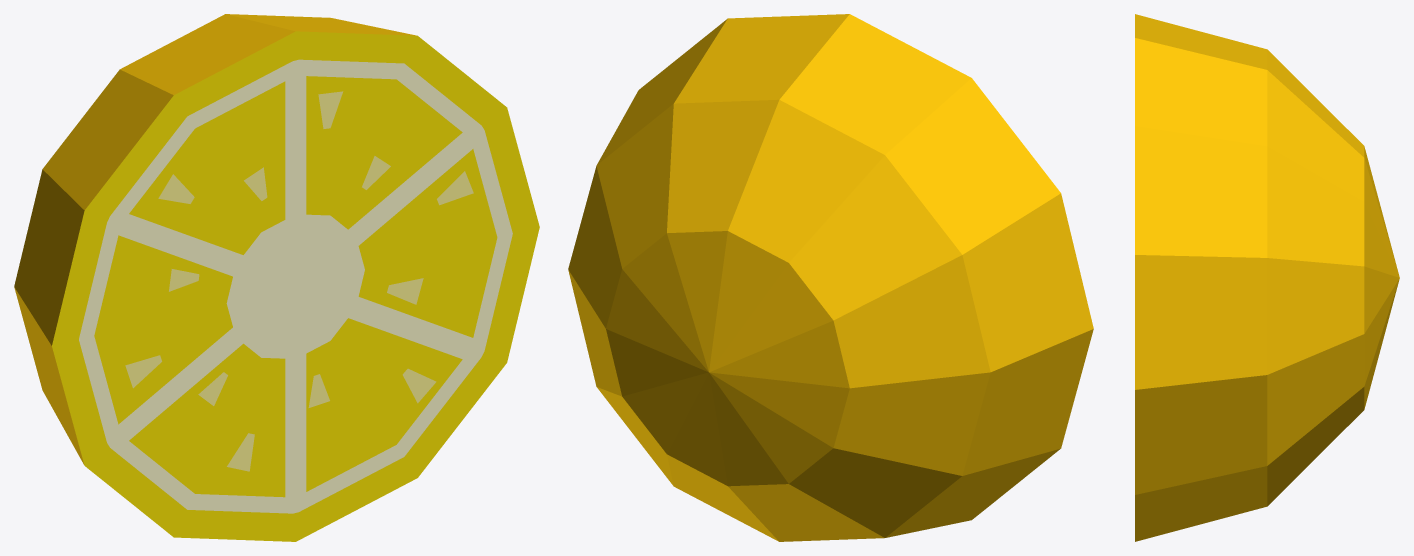
File: Lemon Half.fbx
3 renders of one model, left to right at view 1: azimuth 30°, elevation 25°; view 2: azimuth 150°, elevation 25°; view 3: azimuth 270°, elevation 25°, orthographic. The views are drawn at different scales.
Parts seen in each view (by area): view 1: Lemon Half; view 2: Lemon Half; view 3: Lemon Half.
Boxes of the visible parts, bbox=[...] form: Lemon Half: bbox=[14, 14, 539, 541]; Lemon Half: bbox=[568, 14, 1093, 541]; Lemon Half: bbox=[1135, 14, 1399, 541].
Bounding box in the file's own units: 11.15 × 11.15 × 5.85.
